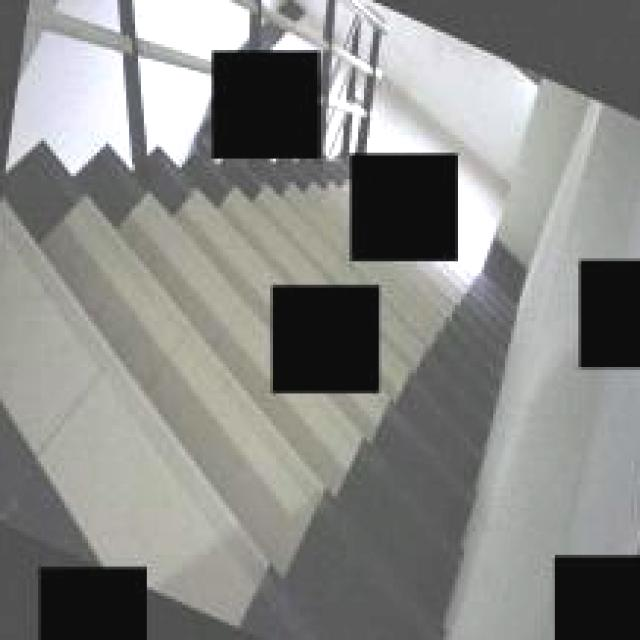downstair: (2, 191, 496, 634)
